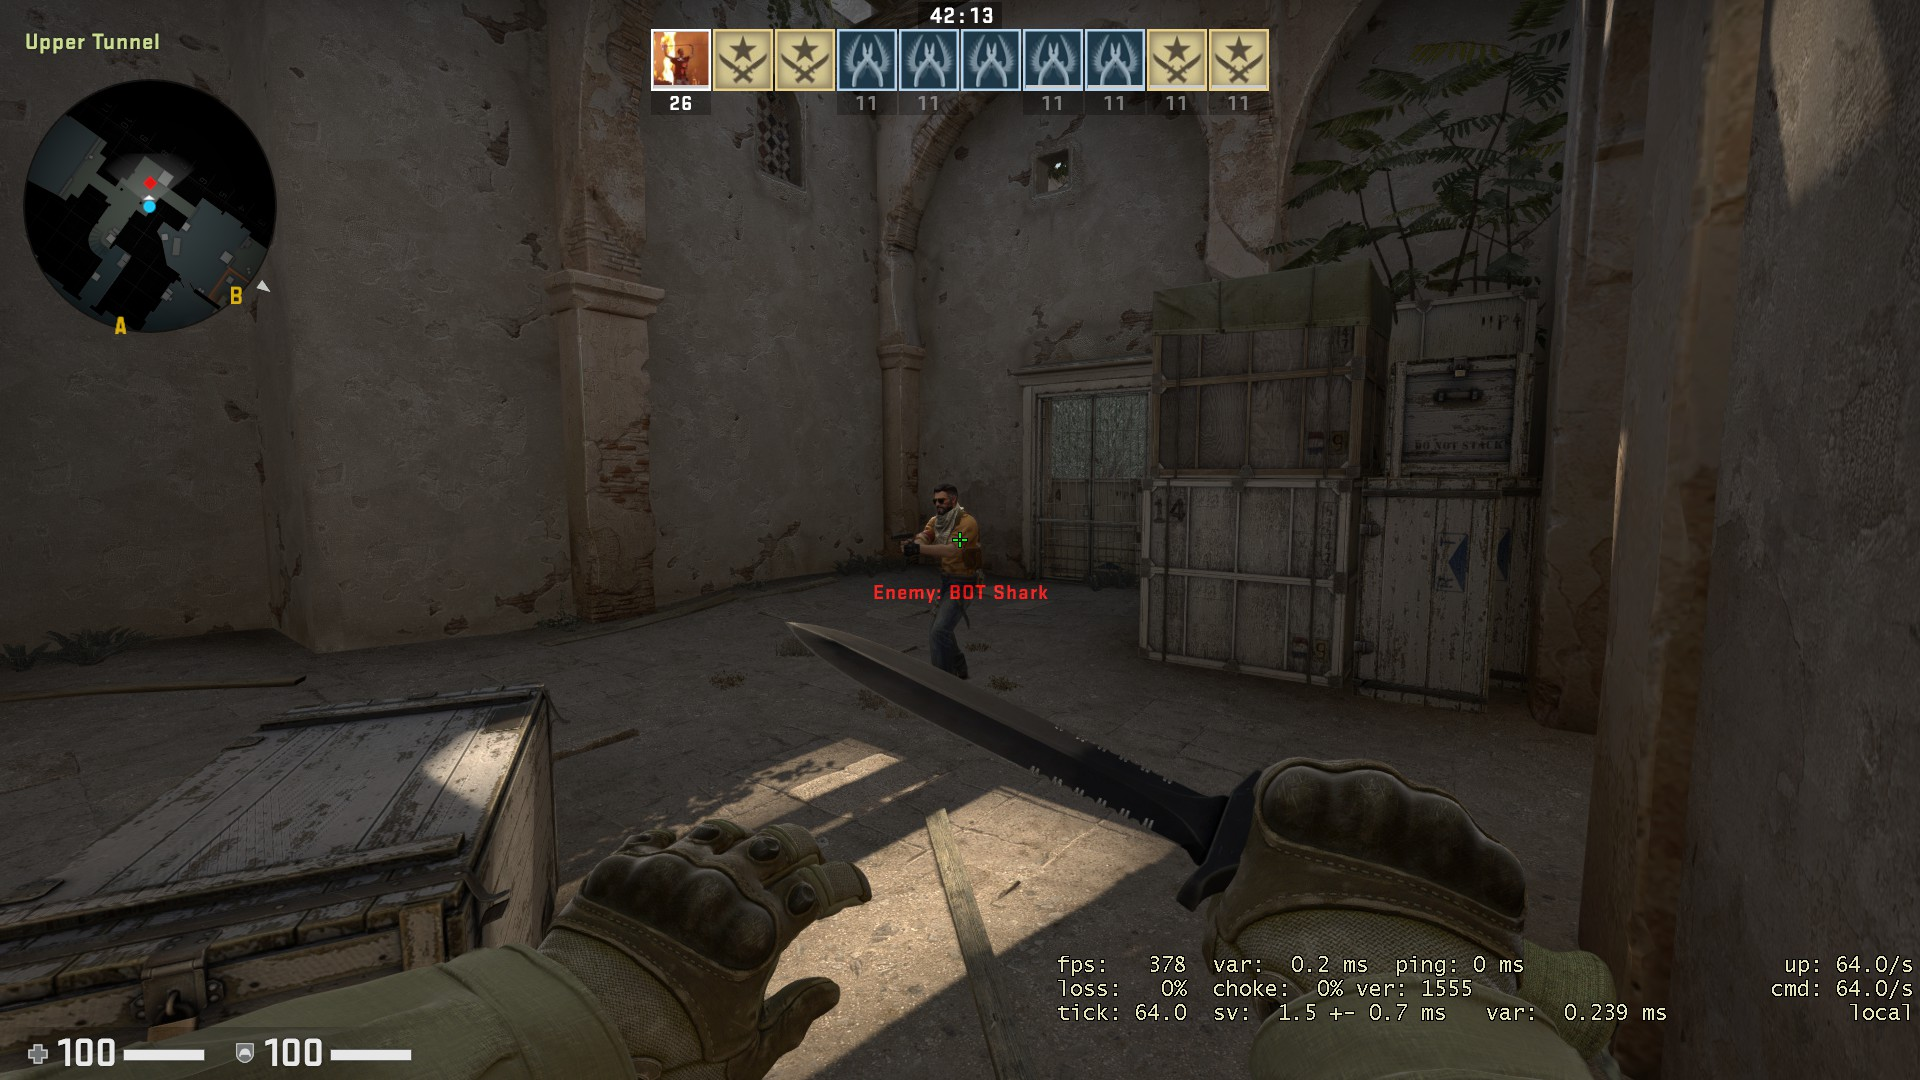player: (887, 476, 987, 689)
